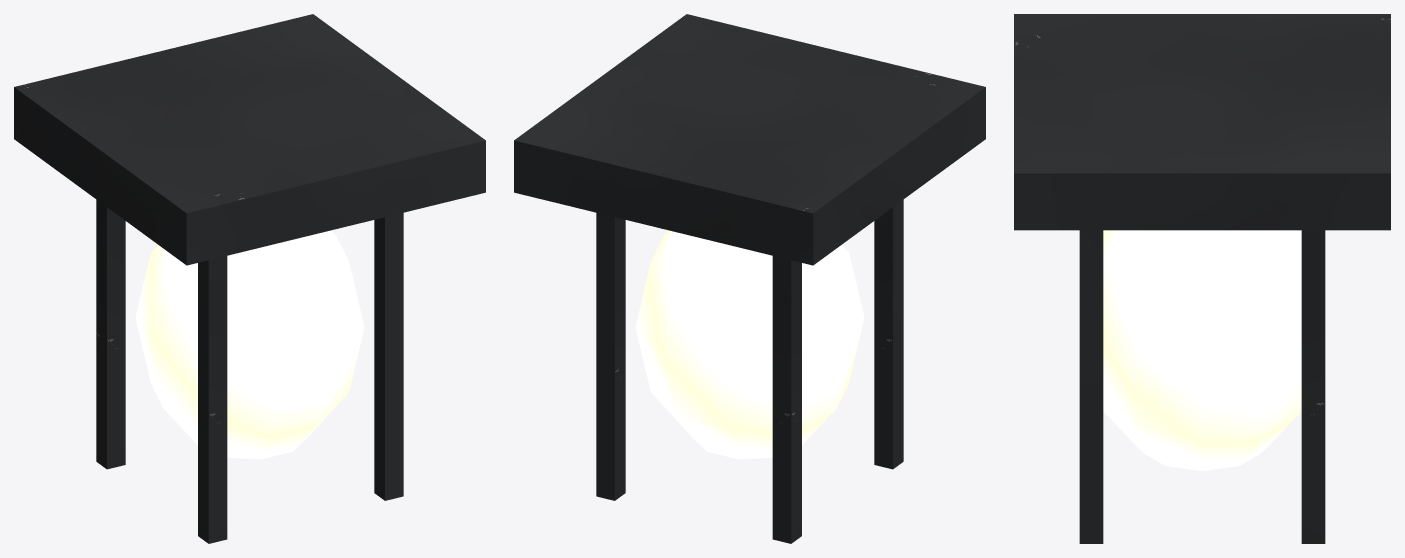
File: light_cage.glb
3 renders of one model, left to right at view 1: azimuth 30°, elevation 25°; view 2: azimuth 150°, elevation 25°; view 3: azimuth 270°, elevation 25°, orthographic. The views are drawn at different scales.
Visible parts, largest first — view 1: light_cage; view 2: light_cage; view 3: light_cage.
Boxes of the visible parts, bbox=[...] form: light_cage: bbox=[14, 14, 485, 543]; light_cage: bbox=[514, 14, 985, 543]; light_cage: bbox=[1014, 14, 1390, 543].
Bounding box in the file's own units: 0.24 × 0.28 × 0.24.
2 materials, 1 textured.
